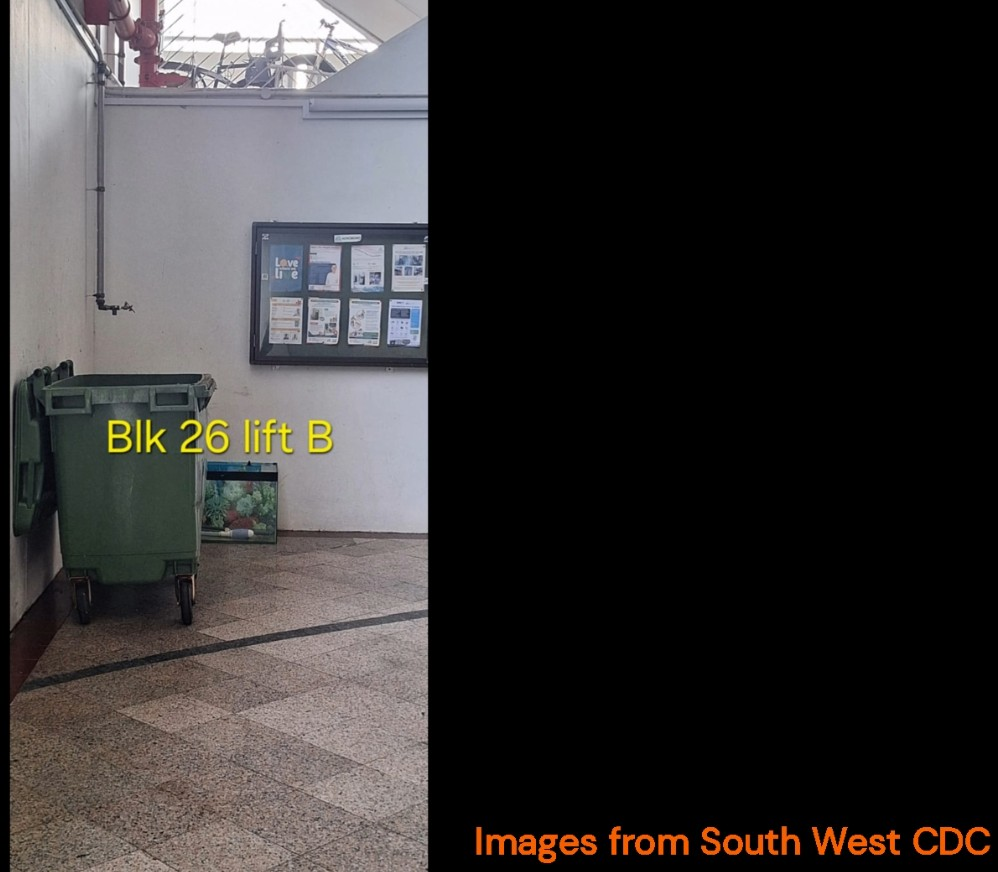bin_empty: (42, 372, 213, 584)
bulk_waste: (203, 463, 278, 542)
